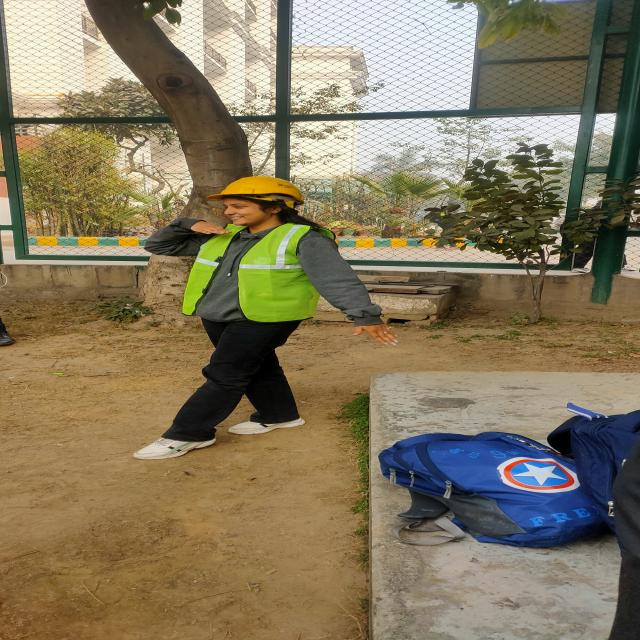safe: (133, 177, 354, 461)
